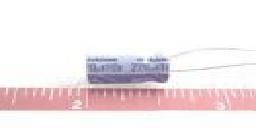Electrolytic-capacitor: (85, 48, 256, 85)
